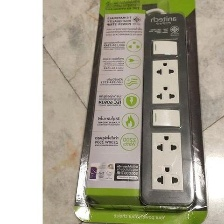book: (71, 0, 211, 224)
three_eye_plug: (137, 11, 199, 216)
